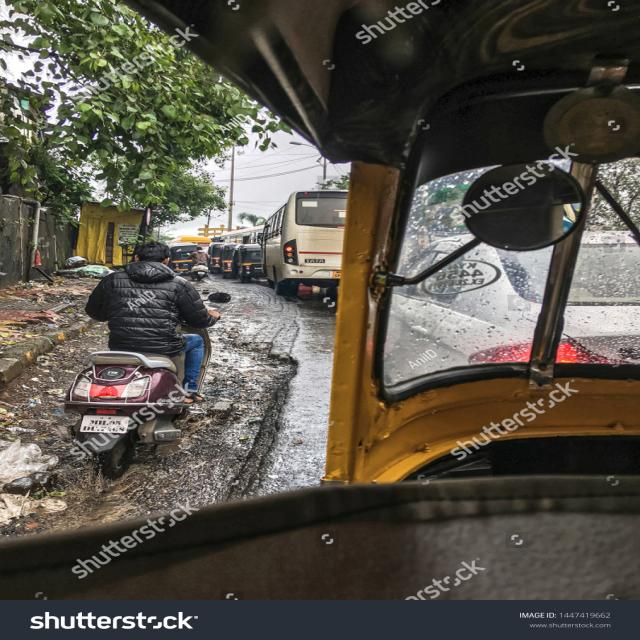motorcycle: (66, 320, 200, 476)
